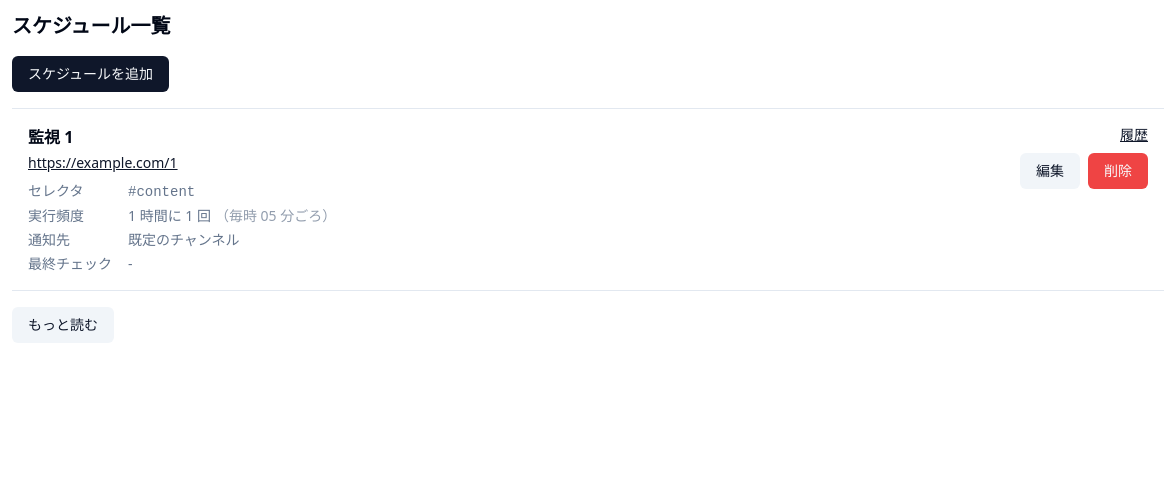
Scenario: ScheduleList — reading › appends the next page rather than replacing the current one
The width and height of the screenshot is (1164, 490).
expect the heading "監視 1" is shown: met, box x1=28 y1=126 x2=73 y2=148
What coordinates should you click on to do the following:
click the button "もっと読む"
I would click on:
 (63, 325)
Its box is x1=12 y1=307 x2=114 y2=343.
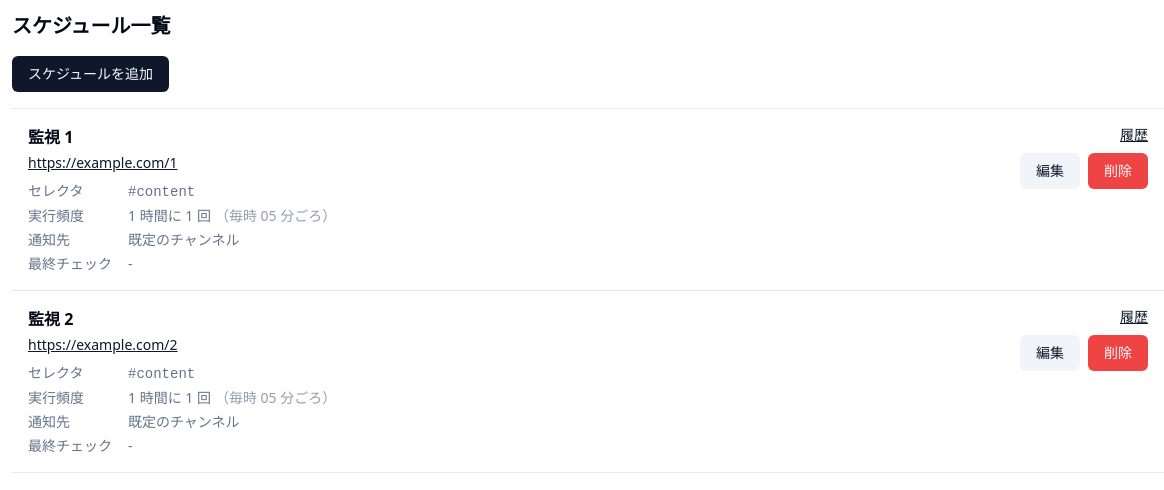
expect the heading "監視 1" is shown: met, box x1=28 y1=126 x2=73 y2=148
expect the heading "監視 2" is shown: met, box x1=28 y1=308 x2=73 y2=330
